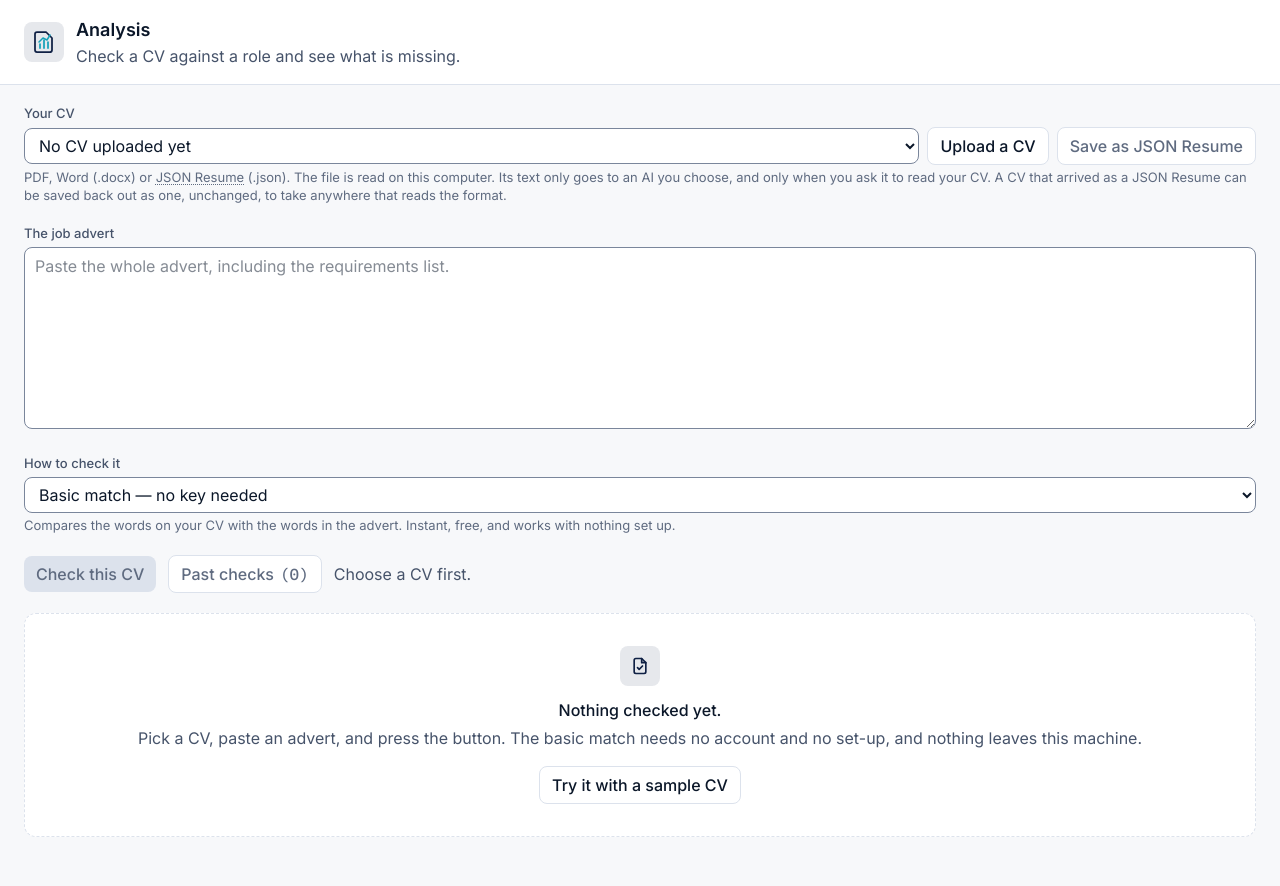
Scenario: try it with a sample (L-277) › can be put away again
The image size is (1280, 886).
Expected: the dropdown with test id "analysis-provider" is shown, [24,477,1256,513]
Click the button with test id "analysis-try-sample".
click(640, 785)  # box [539,766,741,804]
(page scrolled)
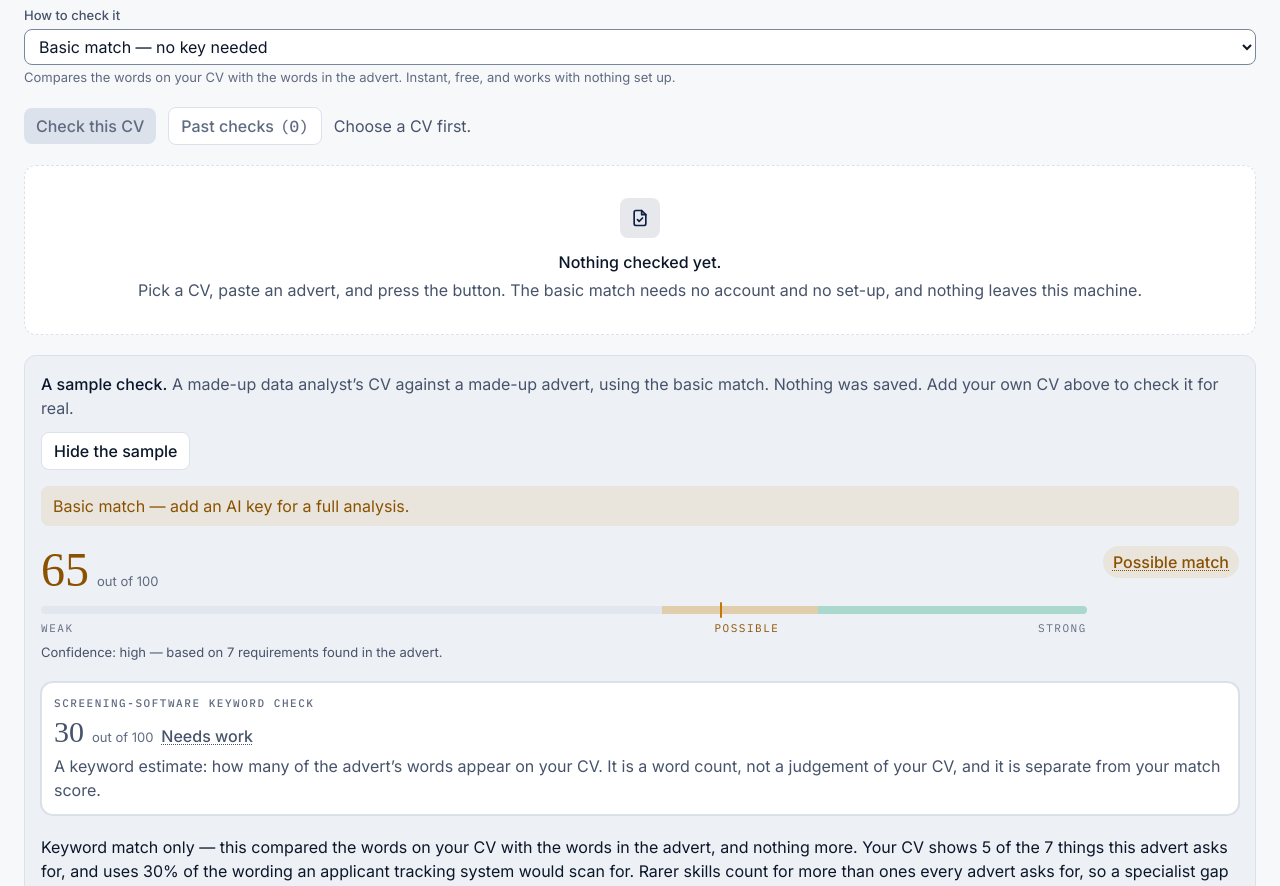
Click the button with test id "analysis-sample-hide".
click(116, 451)  # box [41,432,190,470]
(page scrolled)
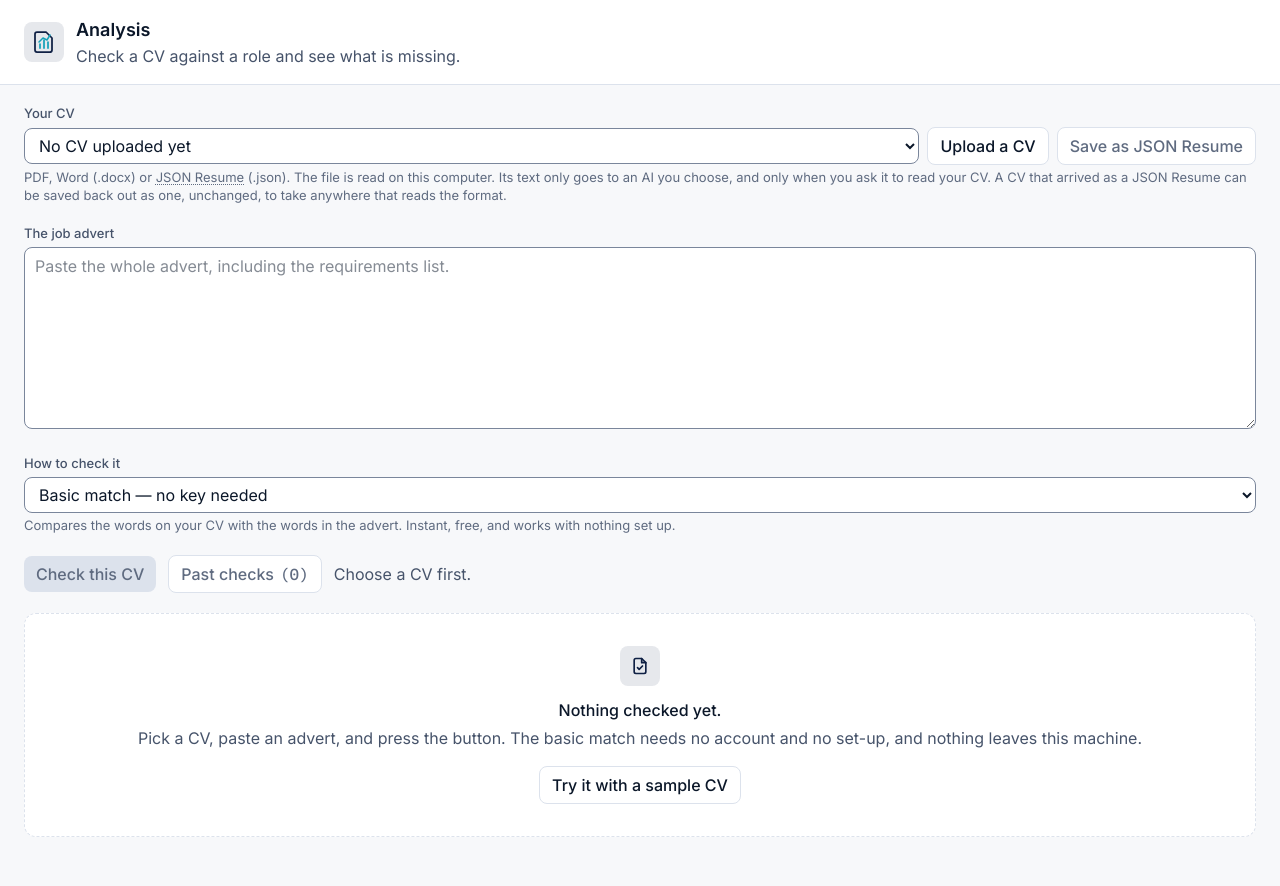
Result: the button with test id "analysis-try-sample" is shown at [539,766,741,804]
